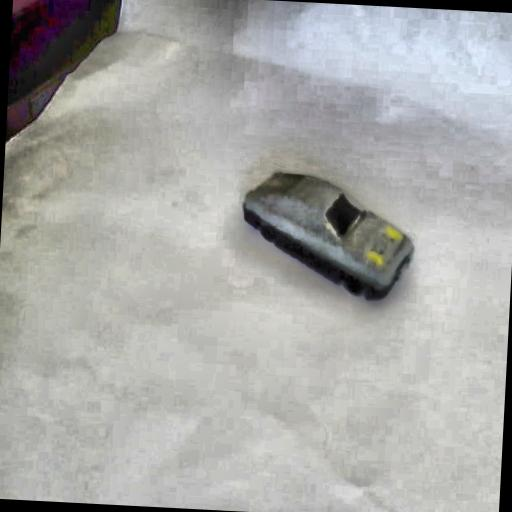normal_car: (234, 164, 419, 306)
